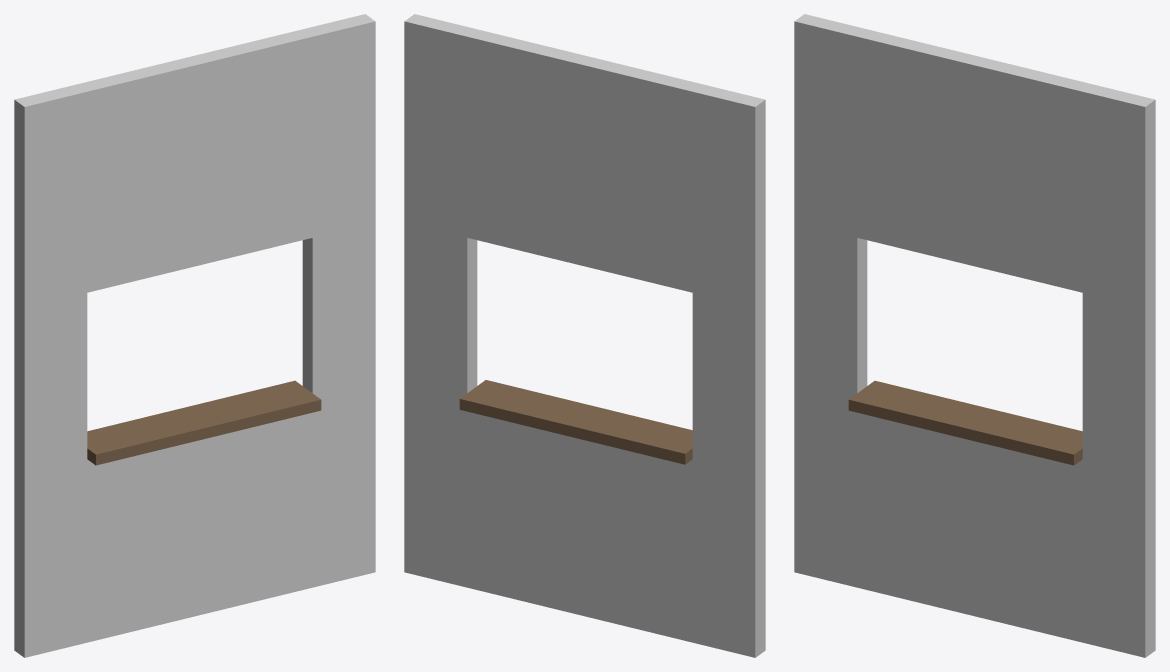
The model's file is Mesh_Wall_H3.fbx.
The picture shows the model from 3 angles, left to right: view 1: azimuth 30°, elevation 25°; view 2: azimuth 150°, elevation 25°; view 3: azimuth 330°, elevation 25°; orthographic projection.
Parts seen in each view (by area): view 1: Mesh_Wall_H3; view 2: Mesh_Wall_H3; view 3: Mesh_Wall_H3.
Boxes of the visible parts, x1,y1,x2,y2 form: Mesh_Wall_H3: (14,14,375,657); Mesh_Wall_H3: (404,14,765,657); Mesh_Wall_H3: (794,14,1155,657).
Bounding box in the file's own units: 2 × 3 × 0.2574.
